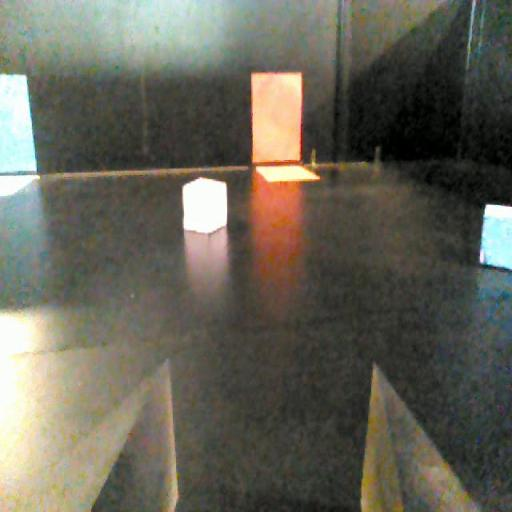cube: (178, 169, 232, 241), (477, 198, 512, 280)
